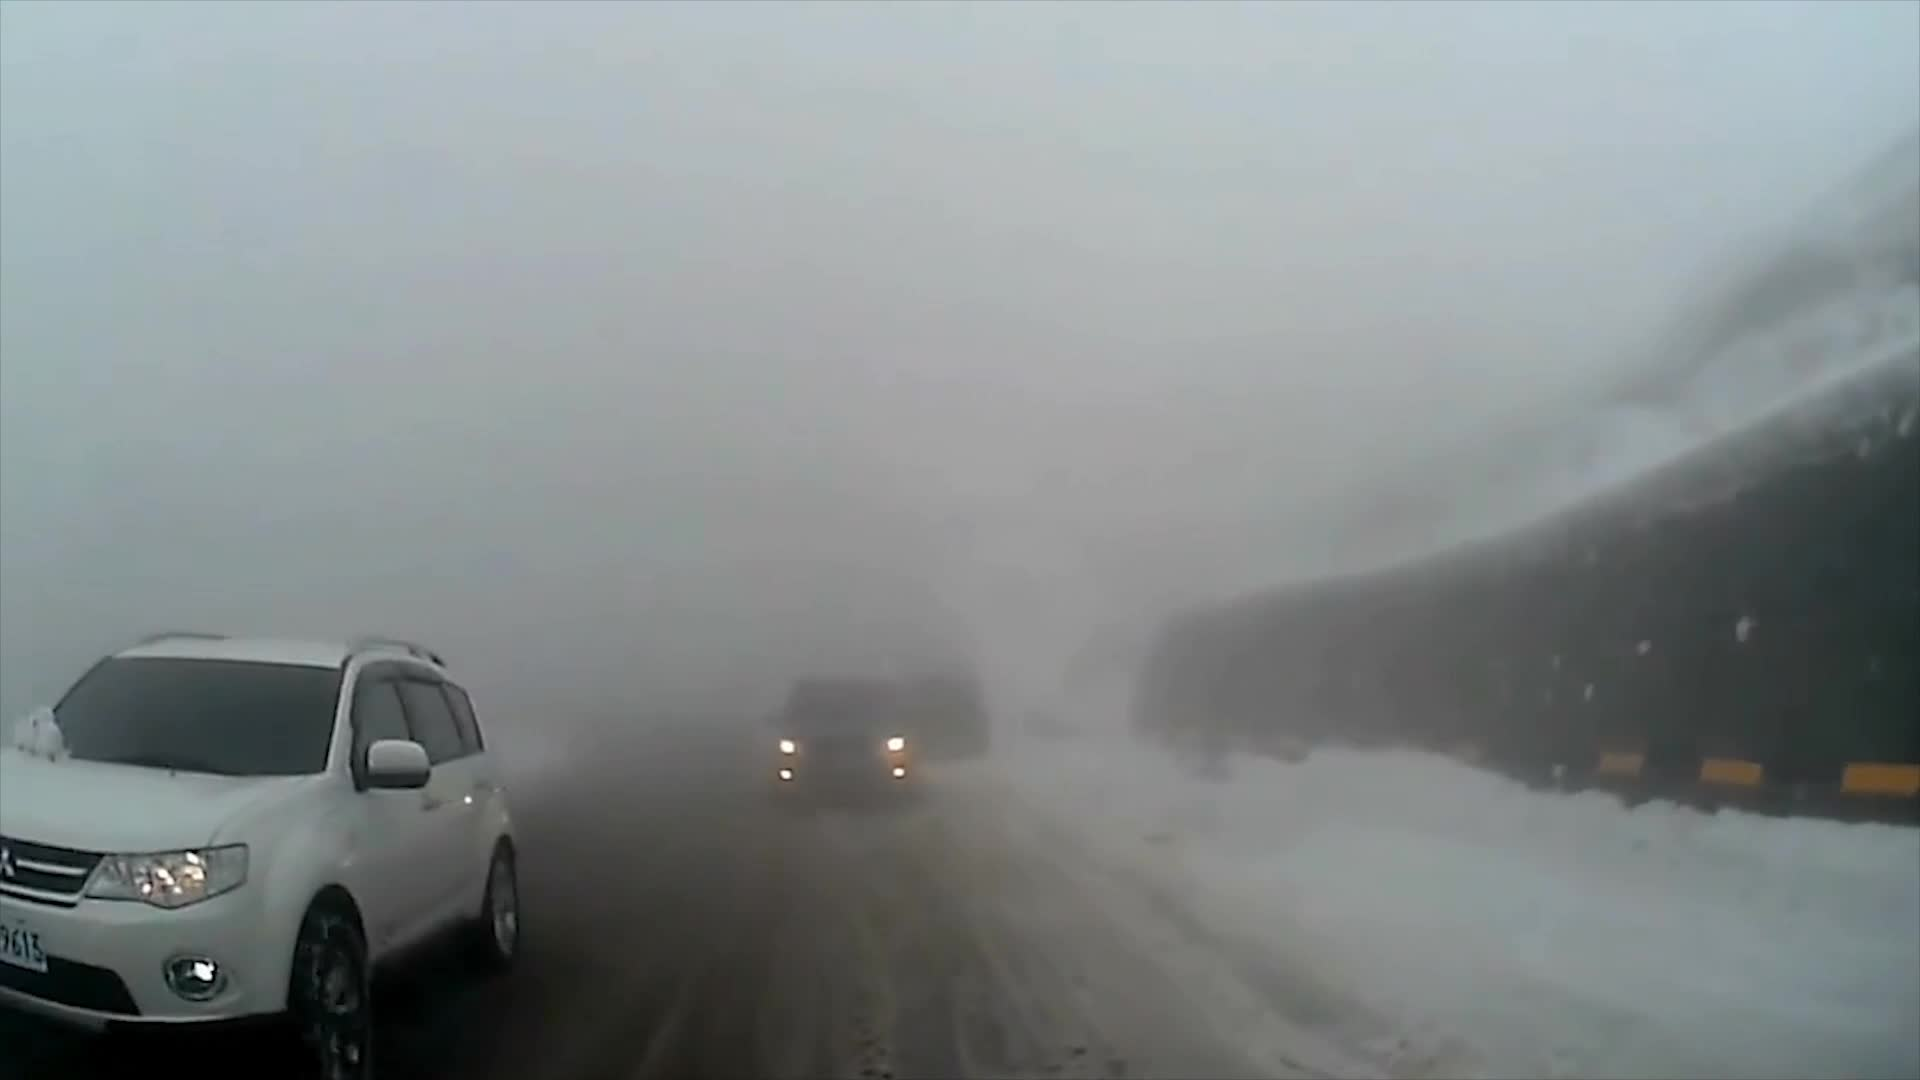vehicle: (0, 629, 525, 1080), (762, 673, 920, 810)
